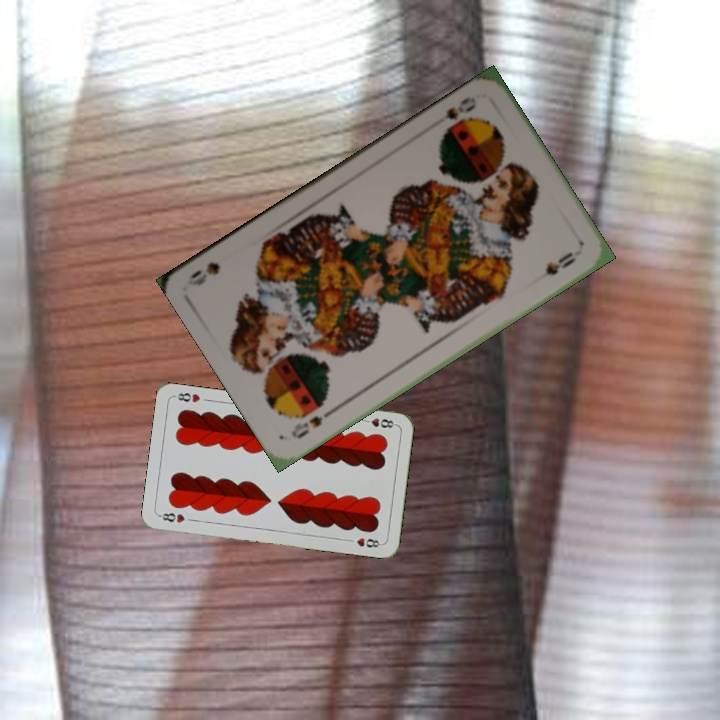H8: (358, 414, 398, 430), (156, 509, 187, 525)
SO: (430, 92, 480, 138), (286, 403, 338, 442)
